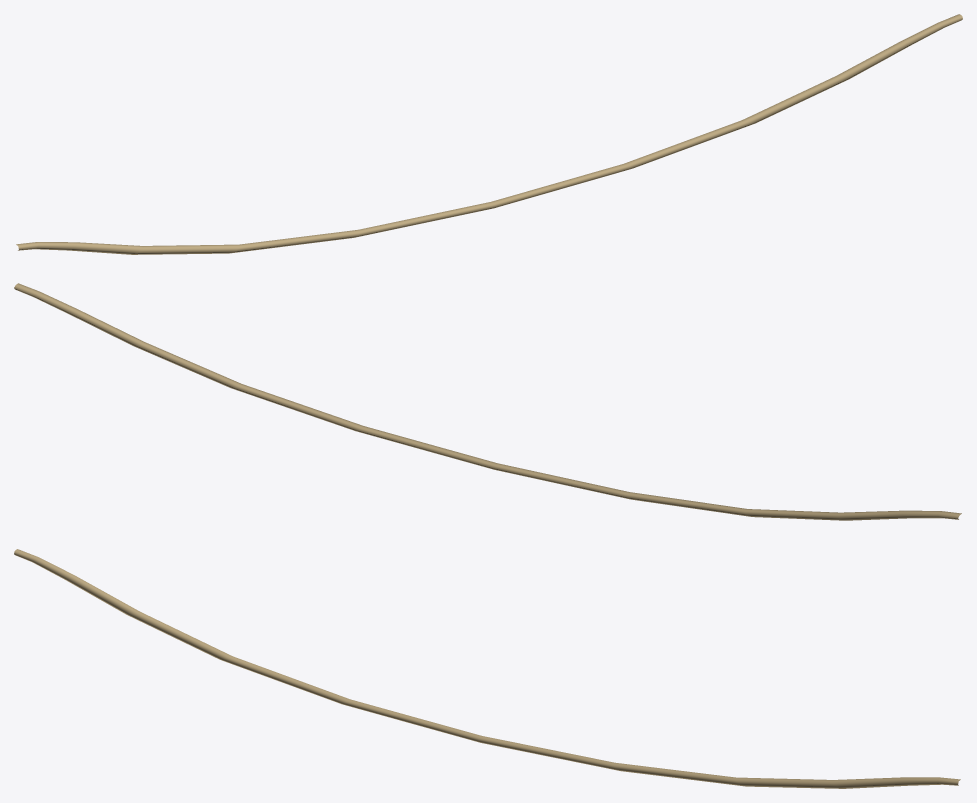
The model's file is ChineseLampRopeLarge_01.glb.
The picture shows the model from 3 angles, top to bottom: view 1: azimuth 30°, elevation 25°; view 2: azimuth 150°, elevation 25°; view 3: azimuth 330°, elevation 25°; orthographic projection.
Parts seen in each view (by area): view 1: ChineseLampRopeLarge_01; view 2: ChineseLampRopeLarge_01; view 3: ChineseLampRopeLarge_01.
Boxes of the visible parts, left/top/right/bottom form: ChineseLampRopeLarge_01: left=16, top=14, right=962, bottom=254; ChineseLampRopeLarge_01: left=14, top=283, right=961, bottom=520; ChineseLampRopeLarge_01: left=14, top=549, right=960, bottom=788.
Size of the model in its own units: 5 by 0.3735 by 0.094.
Materials: 1 (1 with a texture image).
